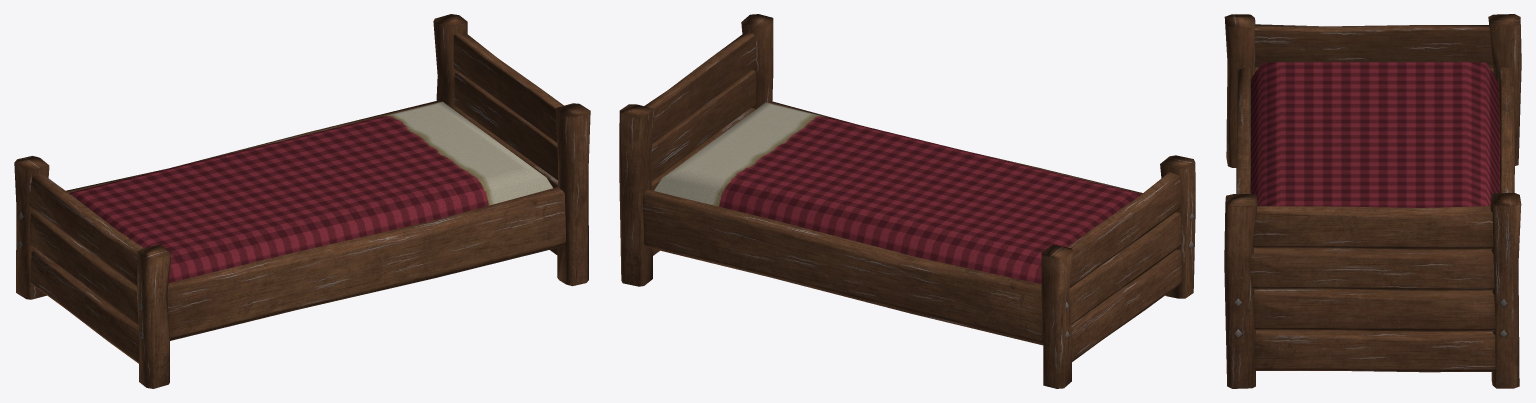
The model's file is bed.glb.
The picture shows the model from 3 angles, left to right: view 1: azimuth 30°, elevation 25°; view 2: azimuth 150°, elevation 25°; view 3: azimuth 270°, elevation 25°; orthographic projection. The views are drawn at different scales.
Parts seen in each view (by area): view 1: defaultobject; view 2: defaultobject; view 3: defaultobject.
Boxes of the visible parts, x1,y1,x2,y2 form: defaultobject: [14, 14, 590, 388]; defaultobject: [619, 14, 1195, 388]; defaultobject: [1224, 14, 1521, 388].
Bounding box in the file's own units: 21.5 × 7.75 × 11.42.
2 materials, 2 textured.
